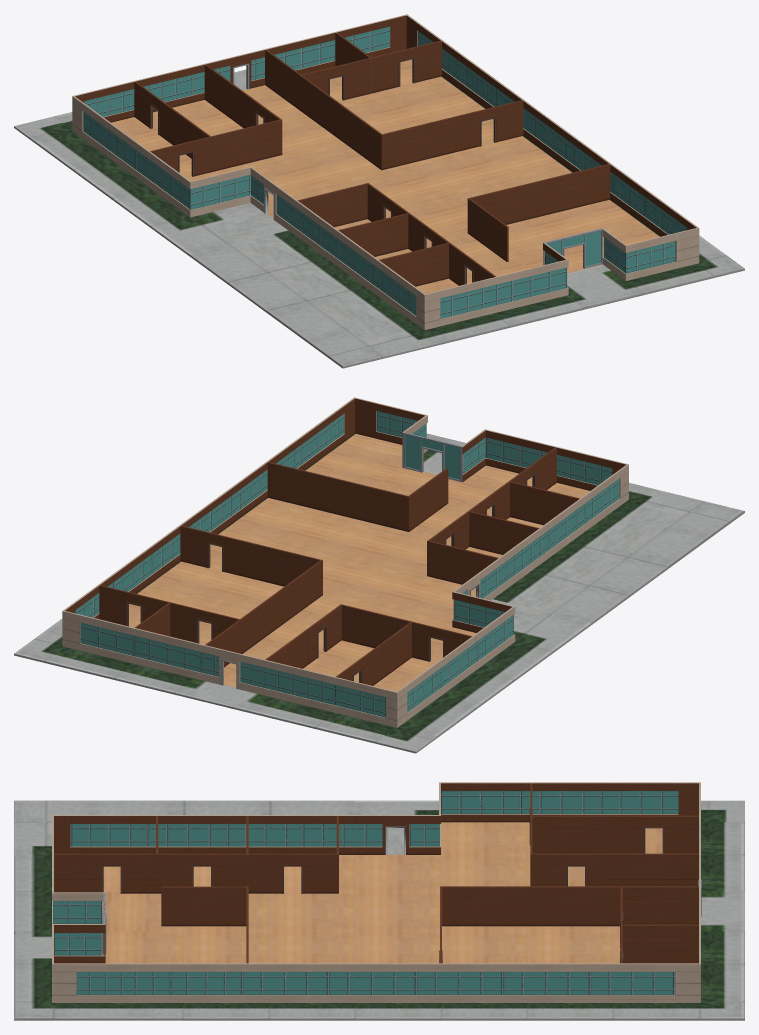
Rendered from office4.fbx.
The picture shows the model from 3 angles, top to bottom: view 1: azimuth 30°, elevation 25°; view 2: azimuth 150°, elevation 25°; view 3: azimuth 270°, elevation 25°; orthographic projection. The views are drawn at different scales.
Parts seen in each view (by area): view 1: floor, insidewall, ousidewall, windows_PASS1; view 2: floor, insidewall, ousidewall, windows_PASS1; view 3: floor, insidewall, windows_PASS1, ousidewall.
Part boxes in pixels (<box>): floor: <box>14,59,744,368</box>; insidewall: <box>134,32,610,286</box>; ousidewall: <box>72,14,699,329</box>; windows_PASS1: <box>83,26,686,318</box>; floor: <box>14,433,744,753</box>; insidewall: <box>99,447,579,685</box>; ousidewall: <box>62,397,628,727</box>; windows_PASS1: <box>75,410,619,717</box>; floor: <box>14,800,744,1020</box>; insidewall: <box>54,783,698,963</box>; windows_PASS1: <box>53,791,678,994</box>; ousidewall: <box>52,782,701,1002</box>.
Bounding box in the file's own units: 3658 × 320 × 5182.
